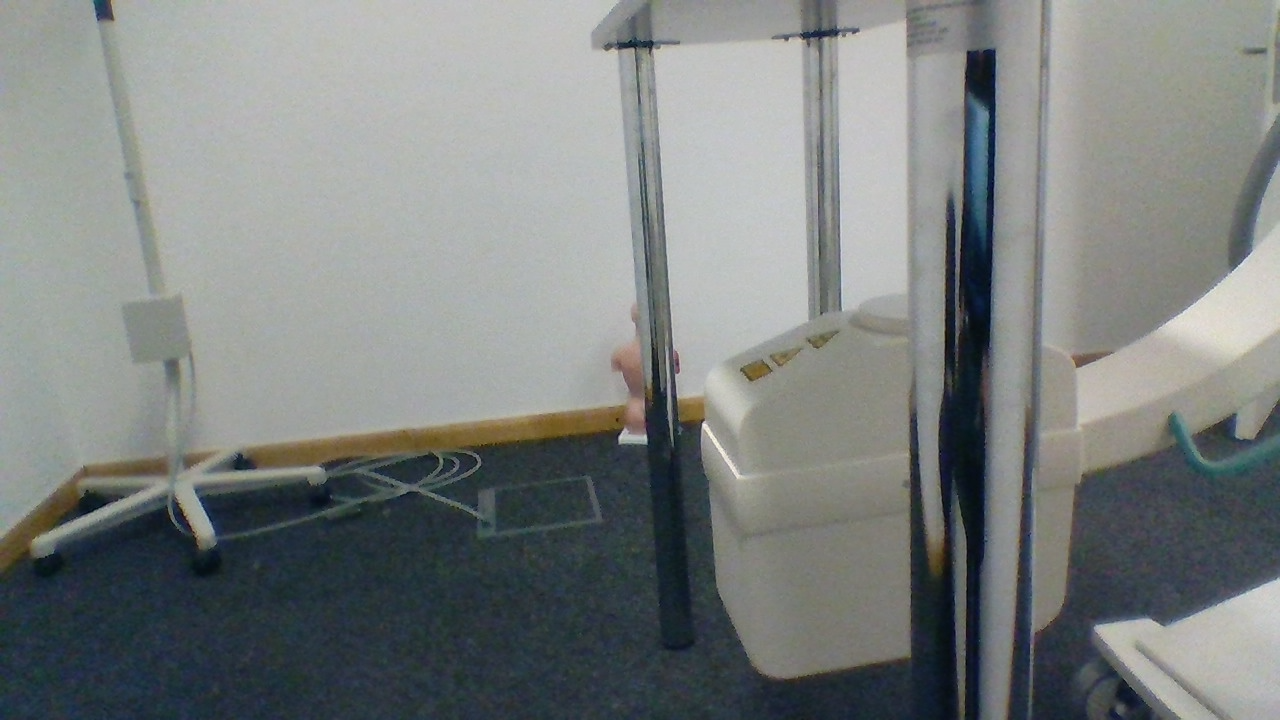carmDOWN: (700, 294, 1082, 477)
